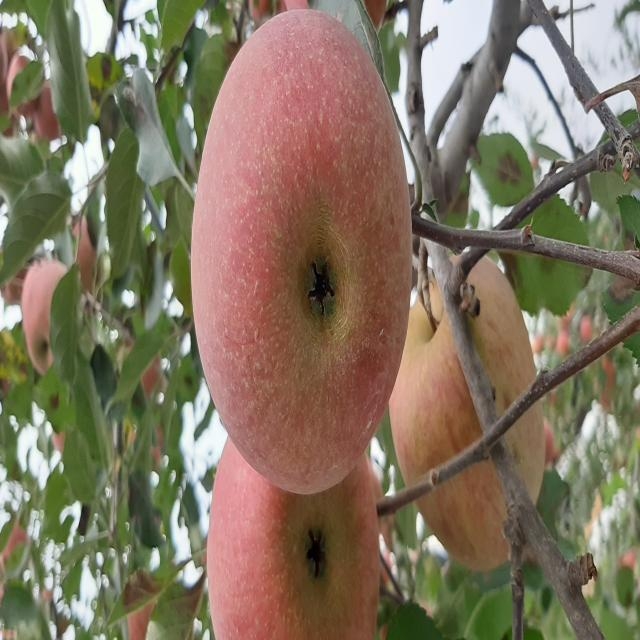fresh: (186, 1, 417, 508)
